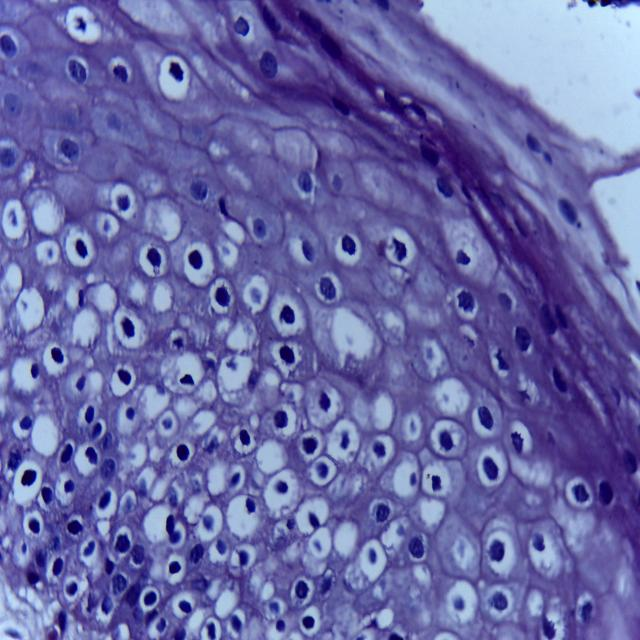Nuclear Hyperchromatism: (17, 461, 74, 540), (60, 405, 105, 470), (478, 452, 503, 487), (475, 402, 498, 435), (187, 244, 208, 276), (71, 235, 95, 262), (145, 240, 163, 275), (214, 280, 233, 312), (279, 301, 301, 328), (176, 367, 201, 390), (277, 343, 297, 369), (440, 428, 457, 456)
